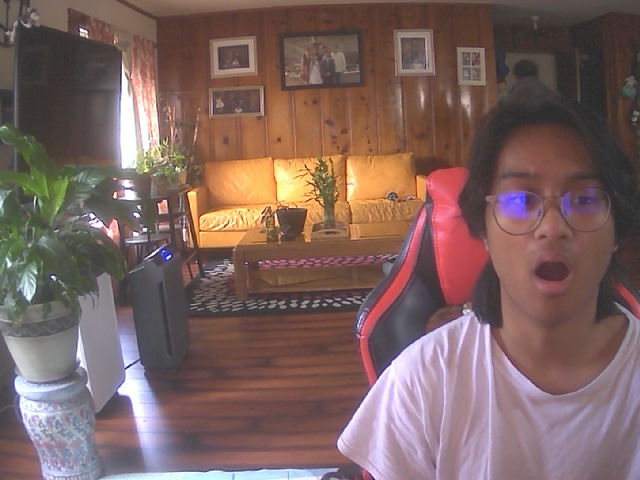fear: (476, 98, 632, 326)
